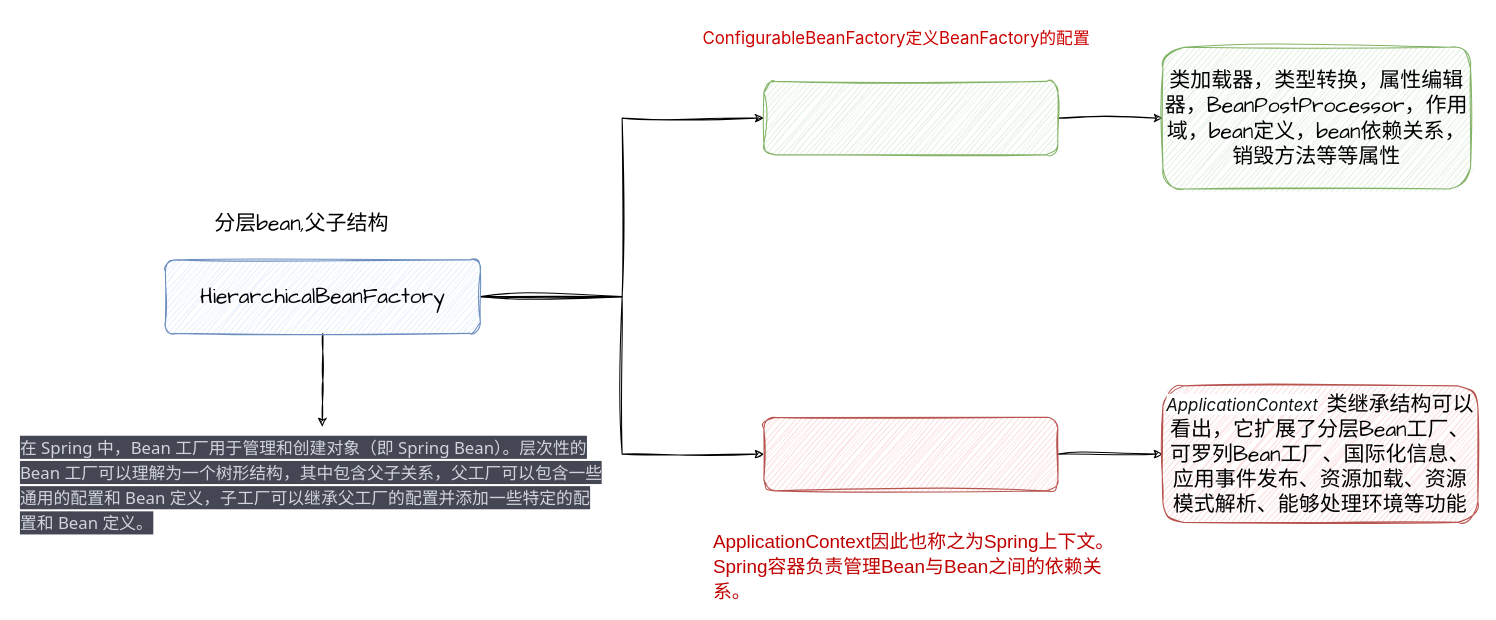
This 1496x620 diagram has some shape labels left out. The shapes that lost their labels are listed below. From the top down, each one's centre as x and y in pixels, then its label:
the point at 910,117: ConfigurableBeanFactory
the point at 910,453: ApplicationContext
